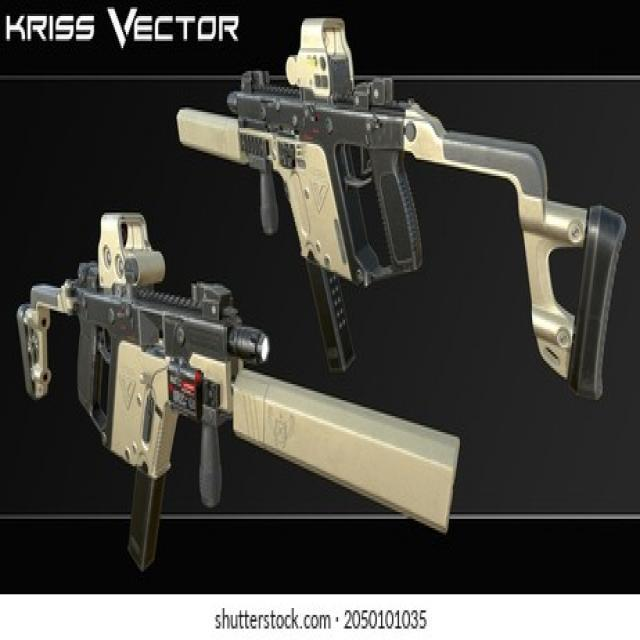scope: (270, 11, 365, 102), (92, 194, 168, 299)
smg: (9, 279, 469, 605), (187, 48, 632, 312)
